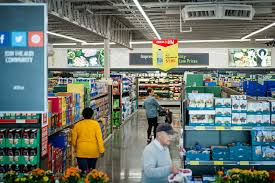Good: (72, 105, 182, 183), (139, 87, 182, 183), (70, 86, 162, 125)
